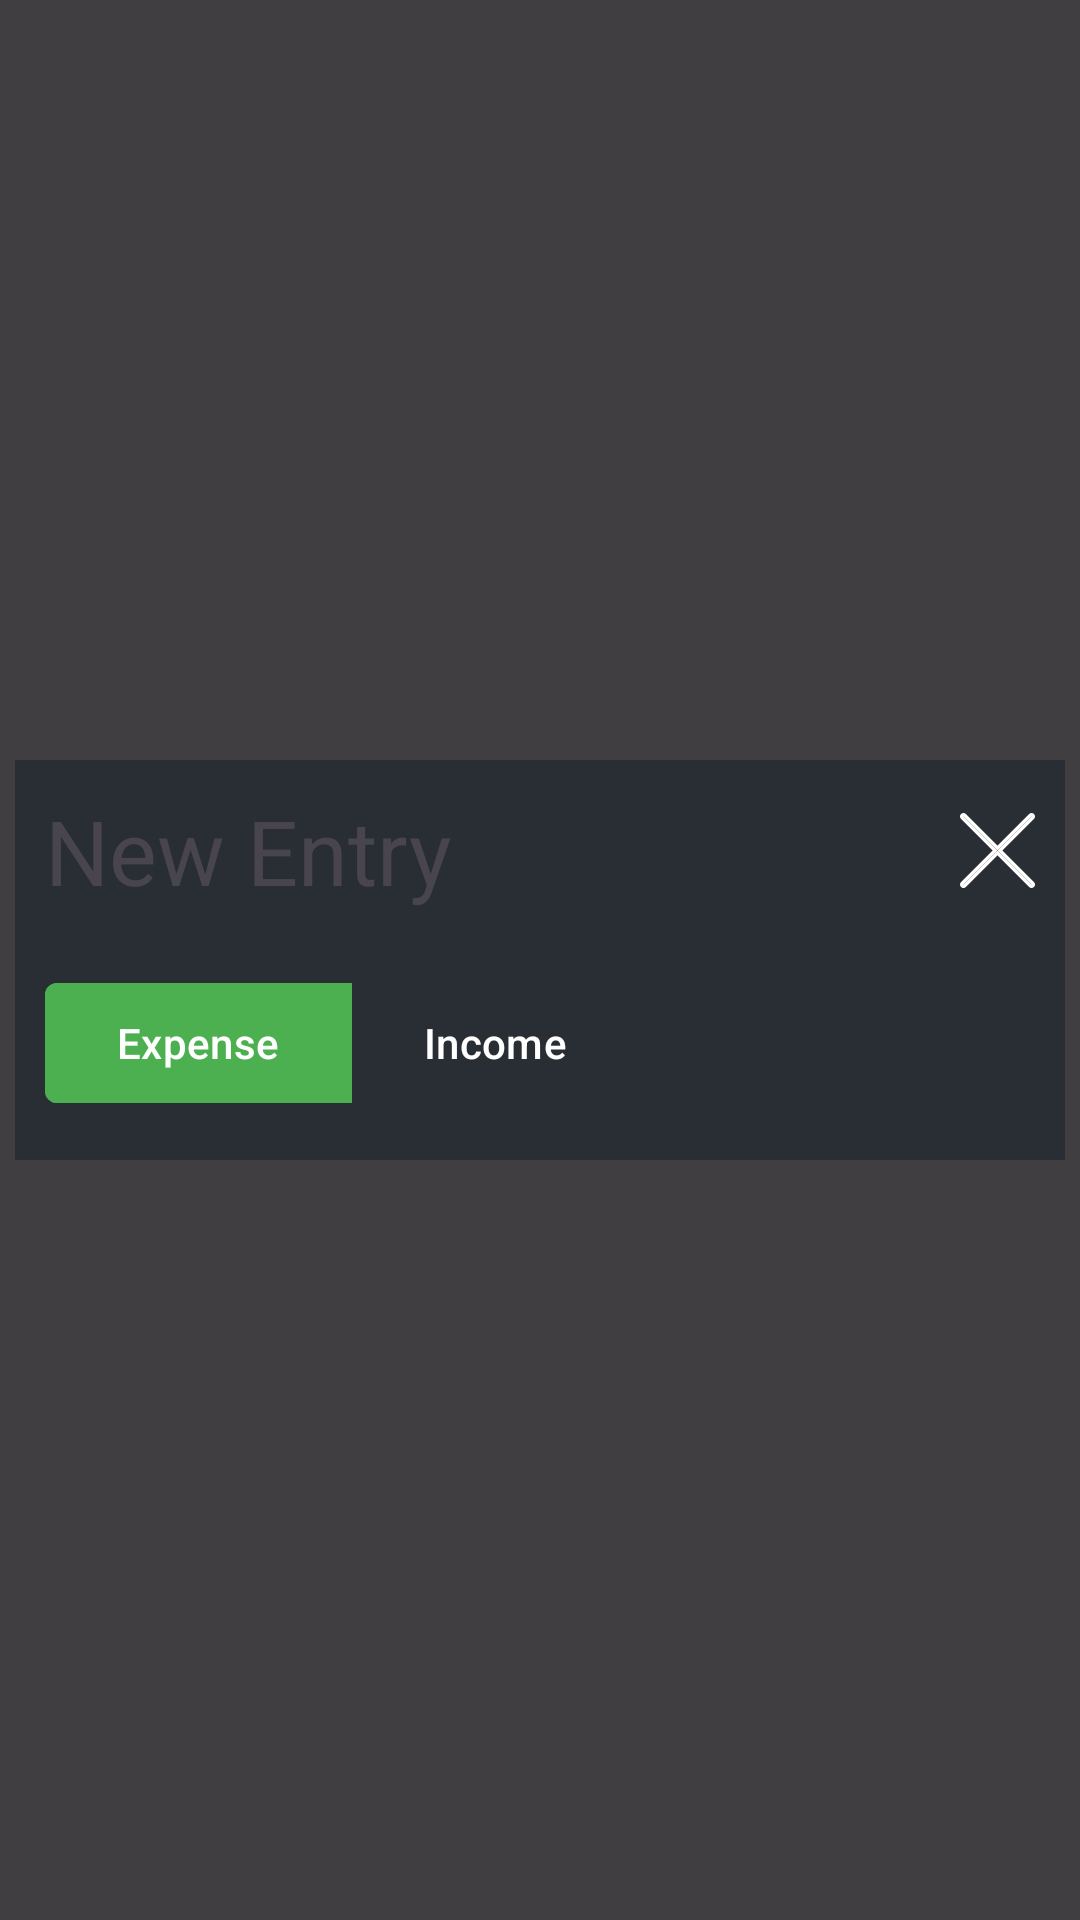

Icon click points for this 1080 × 1920 phone screenshot, format (x,y):
cancel: (997,850)
